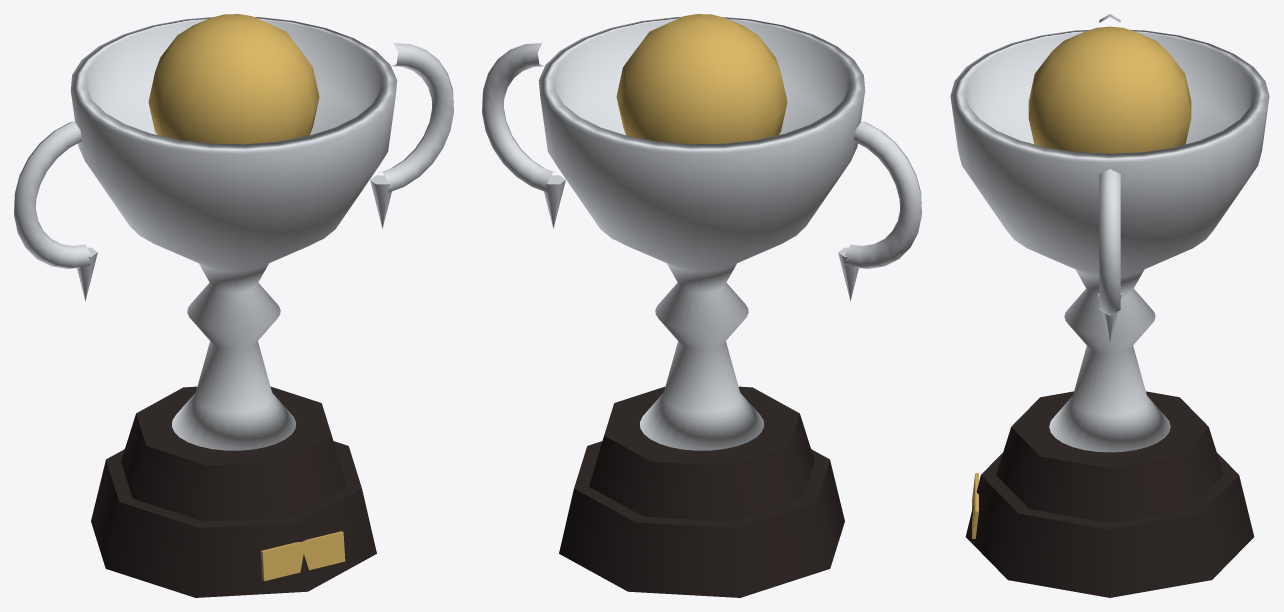
Rendered from trophy_league.glb.
The picture shows the model from 3 angles, left to right: view 1: azimuth 30°, elevation 25°; view 2: azimuth 150°, elevation 25°; view 3: azimuth 270°, elevation 25°; orthographic projection. The views are drawn at different scales.
Parts seen in each view (by area): view 1: trophy_cup, trophy_base, trophy_ball, trophy_plate; view 2: trophy_cup, trophy_base, trophy_ball; view 3: trophy_cup, trophy_base, trophy_ball.
Part boxes in pixels (<box>): trophy_cup: <box>14,17,453,450</box>; trophy_base: <box>91,386,376,597</box>; trophy_ball: <box>148,14,319,144</box>; trophy_plate: <box>260,531,345,581</box>; trophy_cup: <box>482,17,921,450</box>; trophy_base: <box>559,386,844,597</box>; trophy_ball: <box>616,14,787,144</box>; trophy_cup: <box>950,14,1269,452</box>; trophy_base: <box>965,391,1254,597</box>; trophy_ball: <box>1028,26,1191,153</box>.
Size of the model in its own units: 0.6513 by 0.73 by 0.42.
